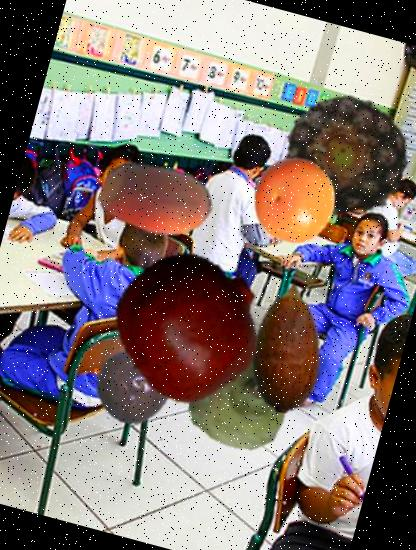Grapefruit: (242, 148, 346, 254)
Hazelnut: (88, 131, 228, 270)
Kohlrabi: (178, 336, 309, 467)
Nut: (209, 268, 367, 428)
Passion: (82, 338, 181, 437)
Pineapple: (265, 76, 416, 238)
Pomegranate: (100, 233, 280, 413)
